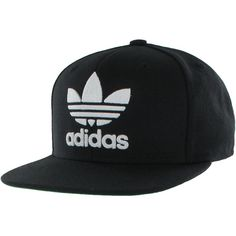adidas Originale: (64, 65, 134, 156)
